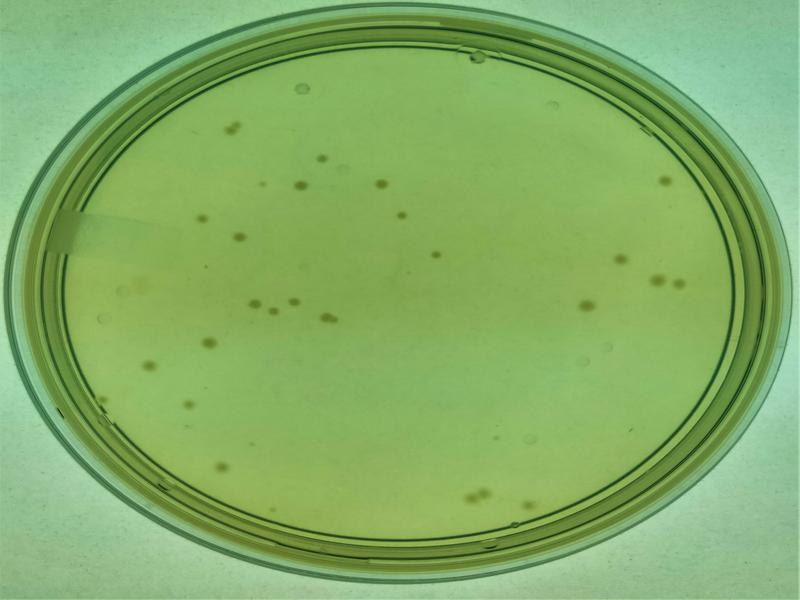colony: (575, 298, 595, 313), (656, 171, 672, 189), (198, 335, 217, 349), (194, 209, 209, 226), (611, 251, 628, 266), (647, 272, 664, 287), (141, 359, 158, 372), (428, 248, 444, 261), (374, 176, 389, 189), (314, 153, 328, 166), (214, 460, 227, 474), (395, 208, 409, 220), (295, 178, 307, 190), (233, 231, 246, 242), (248, 299, 260, 308), (290, 297, 301, 306), (182, 400, 194, 408)
